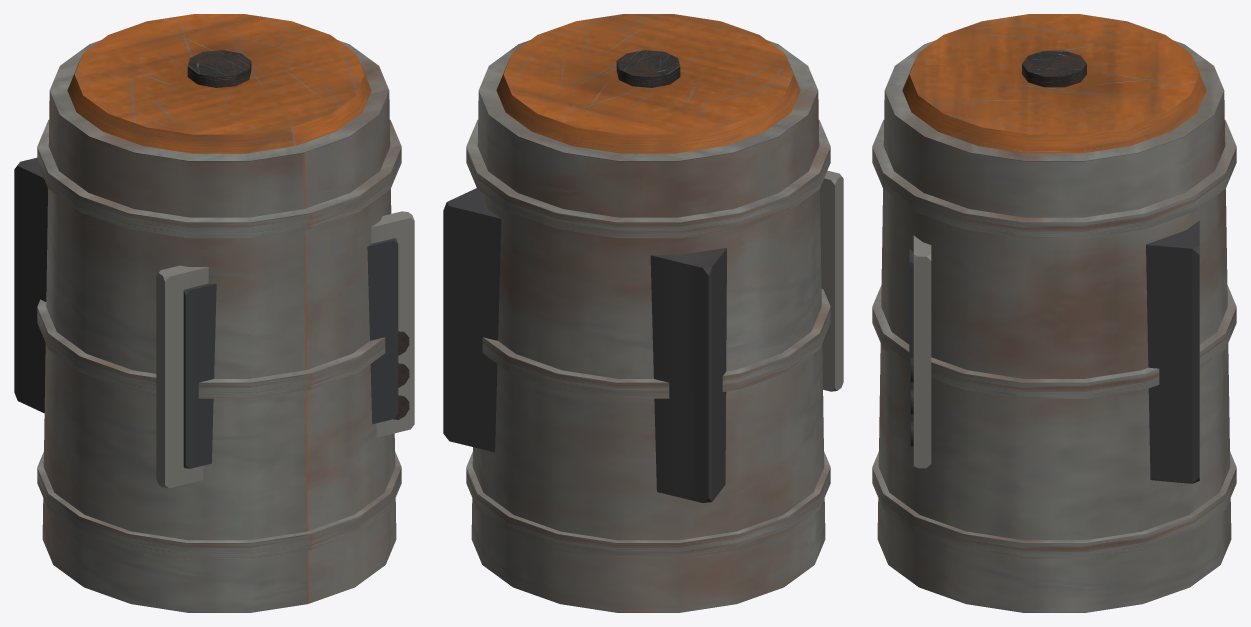
Rendered from propsSynthetic.glb.
3 renders of one model, left to right at view 1: azimuth 30°, elevation 25°; view 2: azimuth 150°, elevation 25°; view 3: azimuth 270°, elevation 25°, orthographic.
Parts seen in each view (by area): view 1: plasticDrum_lod0_v0, chunk_2, chunk_4 (×2), crtTelevision_lod0_v0, crtTelevision_lod1_v0, chunk_3, chunk_0, chunk_1, chunk_5; view 2: plasticDrum_lod0_v0, chunk_2, crtTelevision_lod1_v0, chunk_3 (×2), crtTelevision_lod0_v0, chunk_0 (×2), chunk_1, chunk_4, chunk_5; view 3: plasticDrum_lod0_v0, chunk_2, crtTelevision_lod0_v0, chunk_3, chunk_0 (×2), chunk_1, chunk_4 (×2), crtTelevision_lod1_v0, chunk_5.
Part boxes in pixels (x1,y1,x2,y2): plasticDrum_lod0_v0: [44, 14, 396, 612]; chunk_2: [42, 115, 396, 612]; chunk_4 (×2): [67, 59, 398, 468]; crtTelevision_lod0_v0: [14, 166, 412, 487]; crtTelevision_lod1_v0: [14, 157, 414, 488]; chunk_3: [37, 120, 401, 238]; chunk_0: [37, 451, 401, 558]; chunk_1: [37, 299, 385, 398]; chunk_5: [188, 50, 250, 87]; plasticDrum_lod0_v0: [471, 14, 823, 612]; chunk_2: [471, 115, 825, 612]; crtTelevision_lod1_v0: [443, 170, 841, 502]; chunk_3 (×2): [466, 120, 836, 391]; crtTelevision_lod0_v0: [448, 174, 843, 501]; chunk_0 (×2): [449, 205, 830, 558]; chunk_1: [482, 289, 830, 398]; chunk_4: [496, 59, 800, 151]; chunk_5: [617, 50, 679, 87]; plasticDrum_lod0_v0: [872, 14, 1236, 590]; chunk_2: [877, 91, 1231, 612]; crtTelevision_lod0_v0: [910, 220, 1199, 483]; chunk_3: [872, 120, 1236, 238]; chunk_0 (×2): [872, 226, 1236, 558]; chunk_1: [872, 285, 1236, 398]; chunk_4 (×2): [908, 75, 1204, 440]; crtTelevision_lod1_v0: [913, 221, 1199, 483]; chunk_5: [1022, 50, 1086, 85].
Size of what is drawn, in the model's own units: 0.6086 by 0.89 by 0.618.
Materials: 2 (1 with a texture image).
